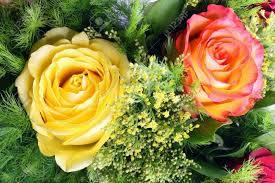lale: (13, 20, 149, 183), (177, 0, 273, 136)
